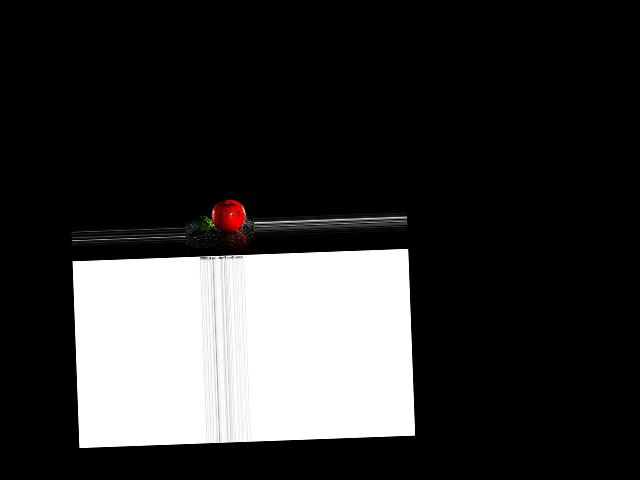tomato: (210, 198, 245, 232)
